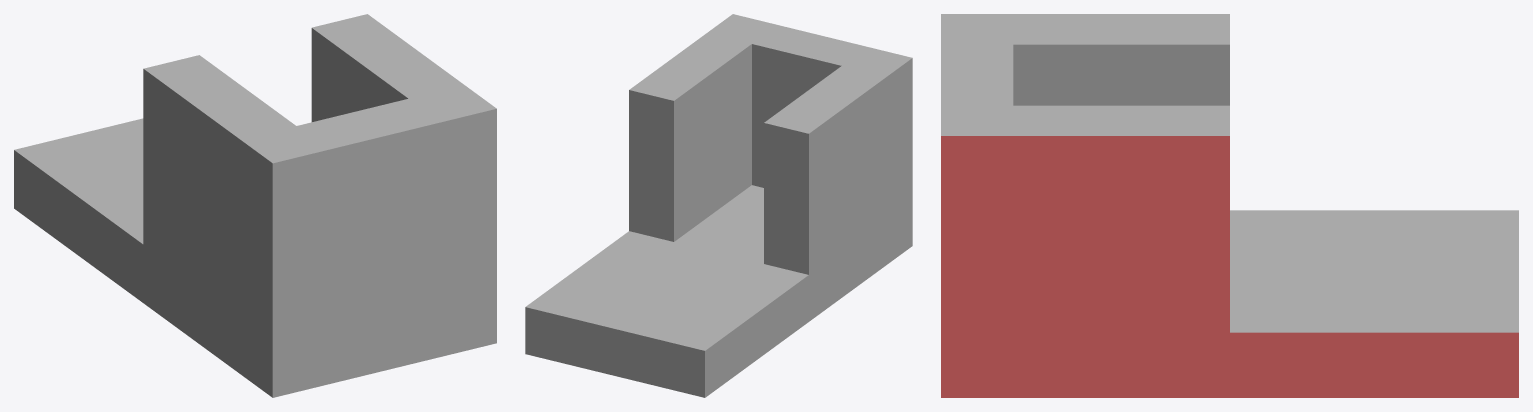
The picture shows the model from 3 angles, left to right: view 1: azimuth 30°, elevation 25°; view 2: azimuth 150°, elevation 25°; view 3: azimuth 270°, elevation 25°; orthographic projection. The views are drawn at different scales.
Parts seen in each view (by area): view 1: ②.SLDPRT; view 2: ②.SLDPRT; view 3: ②.SLDPRT.
Part boxes in pixels (bbox=[...]): ②.SLDPRT: bbox=[14, 14, 496, 397]; ②.SLDPRT: bbox=[525, 14, 912, 397]; ②.SLDPRT: bbox=[941, 14, 1518, 397].
Bounding box in the file's own units: 0.04 × 0.04 × 0.08.
